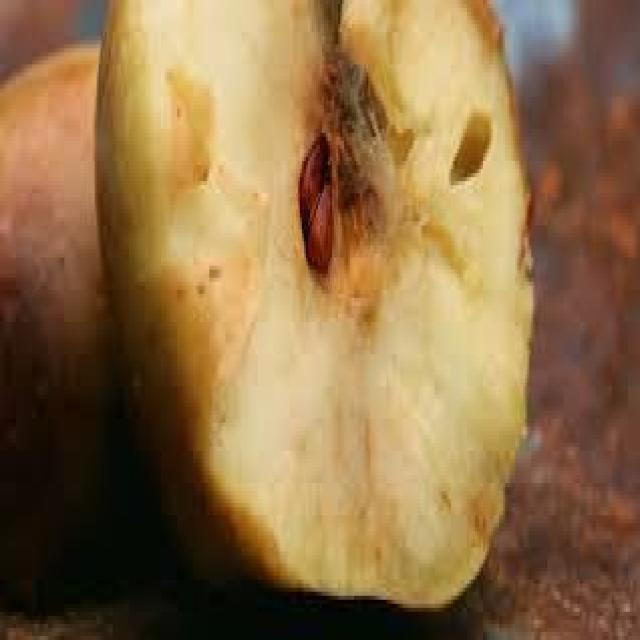maca: (92, 0, 536, 608)
